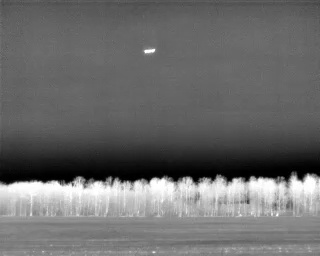DRONE: (140, 44, 159, 59)
